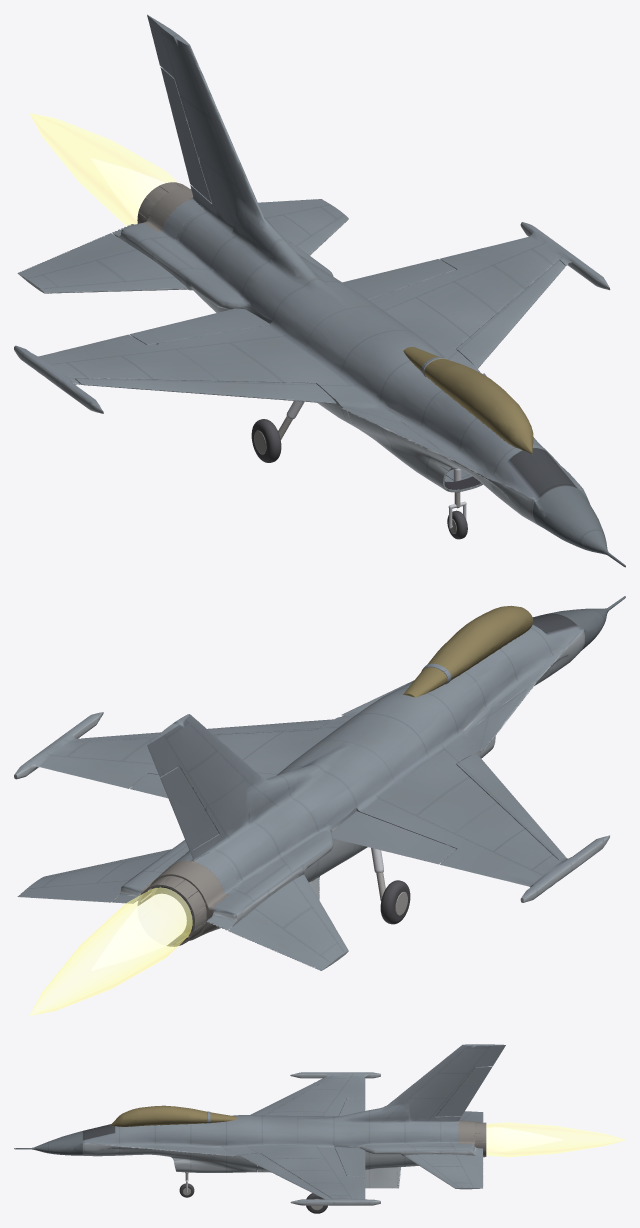
3 renders of one model, top to bottom at view 1: azimuth 30°, elevation 25°; view 2: azimuth 150°, elevation 25°; view 3: azimuth 270°, elevation 25°, orthographic. The views are drawn at different scales.
Visible parts, largest first — view 1: airframe, fsim:afterburner:0, fsim:lef@-2,25 (×2), fsim:elevator+aileron:-0.25@-25,25, fsim:elevator+aileron:0.25@-25,25, fsim:aileron+flaps:-1@-21.5,21.5, fsim:aileron+flaps:1@-21.5,21.5, fsim:rudder, fsim:wheel:2:0.3525; view 2: airframe, fsim:afterburner:0, fsim:elevator+aileron:-0.25@-25,25, fsim:lef@-2,25 (×2), fsim:elevator+aileron:0.25@-25,25, fsim:aileron+flaps:-1@-21.5,21.5, fsim:rudder, fsim:wheel:2:0.3525; view 3: airframe, fsim:afterburner:0, fsim:elevator+aileron:0.25@-25,25, fsim:lef@-2,25 (×2), fsim:rudder, fsim:aileron+flaps:1@-21.5,21.5, fsim:aileron+flaps:-1@-21.5,21.5.
Part boxes in pixels (<box>): airframe: <box>14,14,625,567</box>; fsim:afterburner:0: <box>30,113,177,225</box>; fsim:lef@-2,25 (×2): <box>75,260,565,403</box>; fsim:elevator+aileron:-0.25@-25,25: <box>17,233,187,293</box>; fsim:elevator+aileron:0.25@-25,25: <box>258,199,348,255</box>; fsim:aileron+flaps:-1@-21.5,21.5: <box>130,308,269,344</box>; fsim:aileron+flaps:1@-21.5,21.5: <box>342,259,455,299</box>; fsim:rudder: <box>160,67,211,202</box>; fsim:wheel:2:0.3525: <box>251,419,281,462</box>; airframe: <box>14,596,625,940</box>; fsim:afterburner:0: <box>30,887,192,1015</box>; fsim:elevator+aileron:-0.25@-25,25: <box>228,874,348,970</box>; fsim:lef@-2,25 (×2): <box>75,719,565,860</box>; fsim:elevator+aileron:0.25@-25,25: <box>17,849,171,902</box>; fsim:aileron+flaps:-1@-21.5,21.5: <box>332,811,456,864</box>; fsim:rudder: <box>160,766,218,851</box>; fsim:wheel:2:0.3525: <box>380,880,410,924</box>; airframe: <box>14,1044,505,1205</box>; fsim:afterburner:0: <box>486,1122,625,1157</box>; fsim:elevator+aileron:0.25@-25,25: <box>405,1154,483,1189</box>; fsim:lef@-2,25 (×2): <box>239,1077,330,1198</box>; fsim:rudder: <box>436,1066,492,1116</box>; fsim:aileron+flaps:1@-21.5,21.5: <box>334,1147,365,1177</box>; fsim:aileron+flaps:-1@-21.5,21.5: <box>339,1098,365,1116</box>.
Bounding box in the file's own units: 9.42 × 5.18 × 18.87.
Materials: 9 (1 with a texture image).
